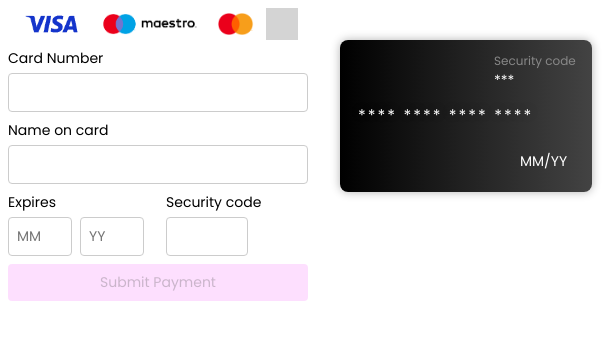
CreditCardForm › Credit card form fields › Card number field › should render an error message when an invalid card number is entered
Type "1234" into the field named "Card number field".
click(158, 92); type("1234")  # box [8, 73, 308, 112]
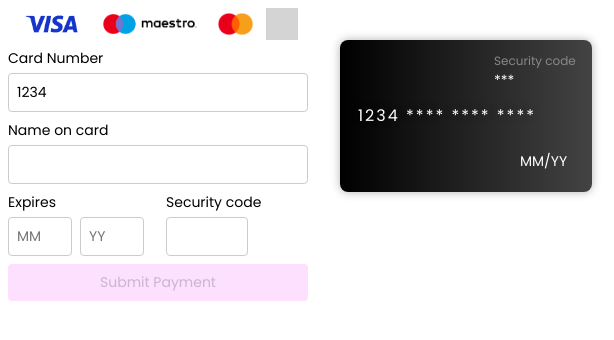
Leave the field named "Card number field", box [8, 73, 308, 112]
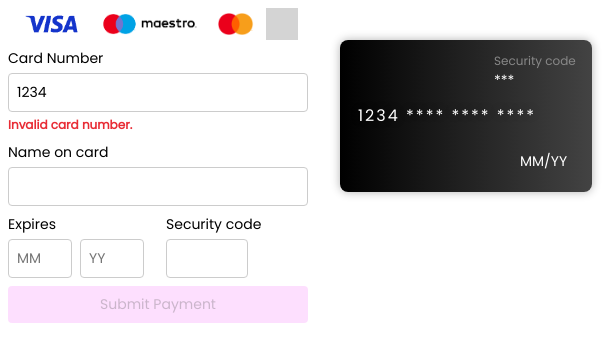
Result: the text "Invalid card number." is shown at [8, 116, 132, 133]
